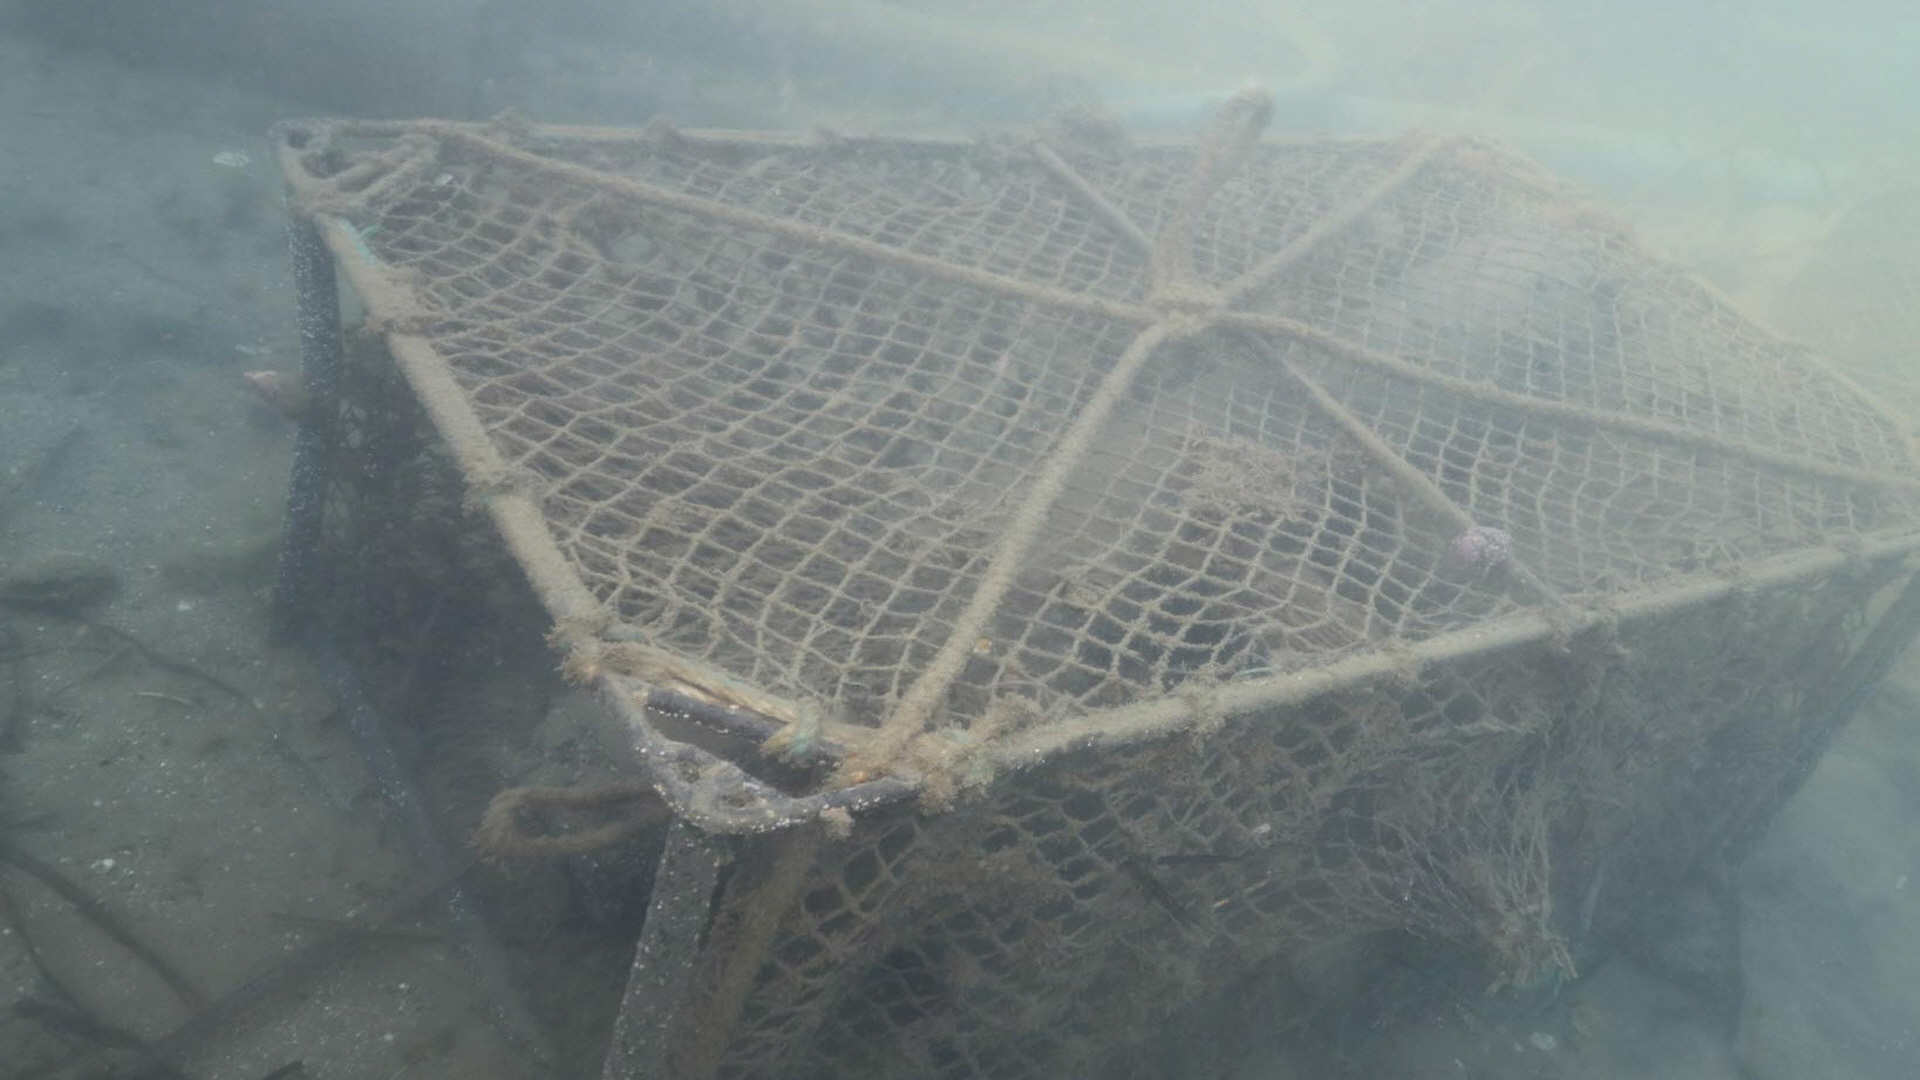bundle of ropes: (1160, 83, 1276, 313)
rectangular fish trap: (264, 113, 1920, 1080)
rope: (477, 775, 676, 855)
